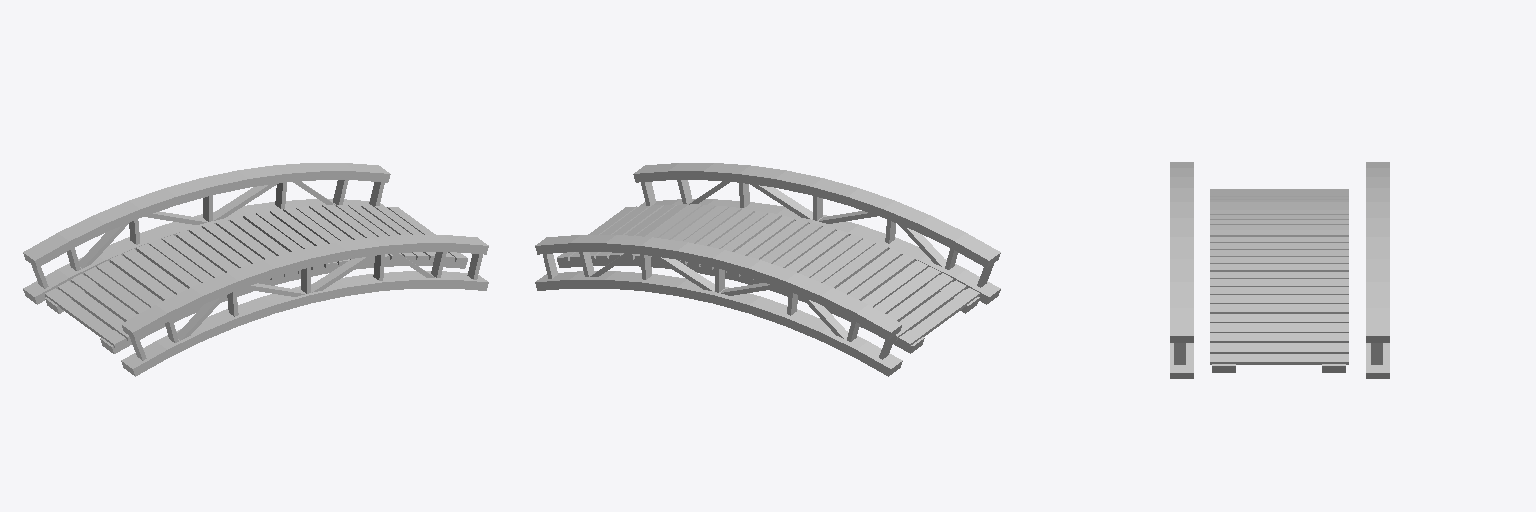
File: Wood Bridge .obj
The picture shows the model from 3 angles: view 1: azimuth 30°, elevation 25°; view 2: azimuth 150°, elevation 25°; view 3: azimuth 270°, elevation 25°; orthographic projection.
Visible parts, largest first — view 1: Wood_Bridge1; view 2: Wood_Bridge1; view 3: Wood_Bridge1.
Part boxes in pixels (left/top/right/bottom): Wood_Bridge1: left=23, top=163, right=488, bottom=376; Wood_Bridge1: left=535, top=163, right=1000, bottom=376; Wood_Bridge1: left=1170, top=162, right=1389, bottom=378.
Size of the model in its own units: 26.18 by 5.29 by 14.